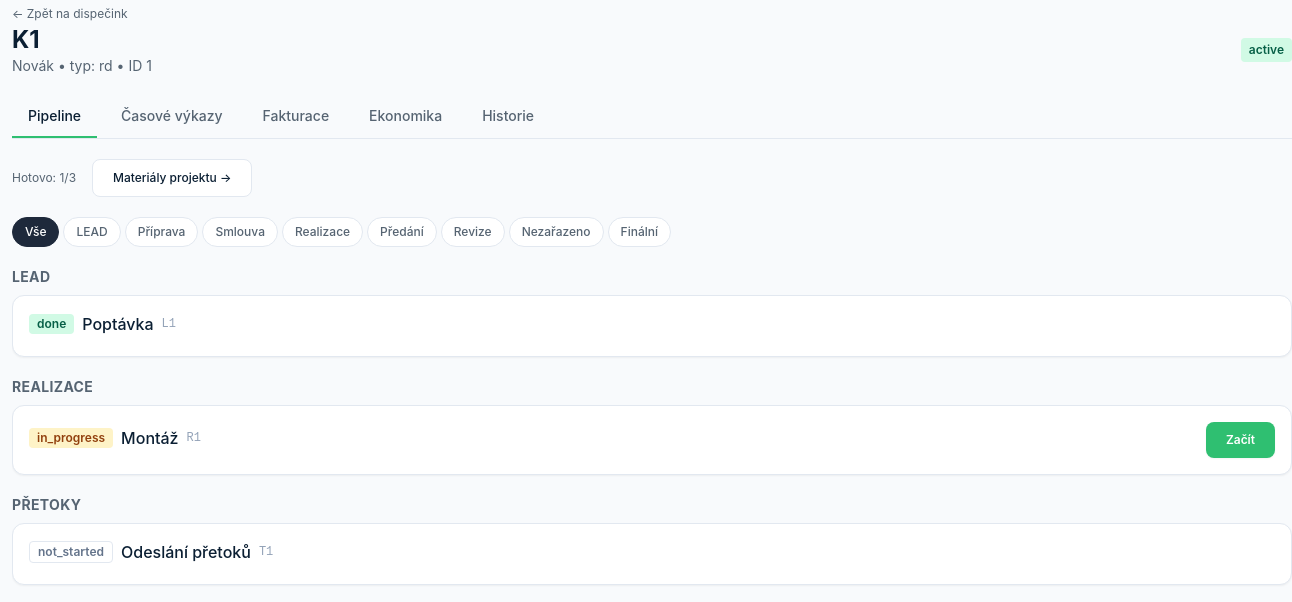
Test case: PipelineDetail — sub-taby fází › prázdný tab fáze zobrazí oznamovací lištu
The image size is (1292, 602).
expect the text "Montáž" is shown: met, box [121,426,179,450]
Click the button "Smlouva" at (240, 232), box [202,217,278,247]
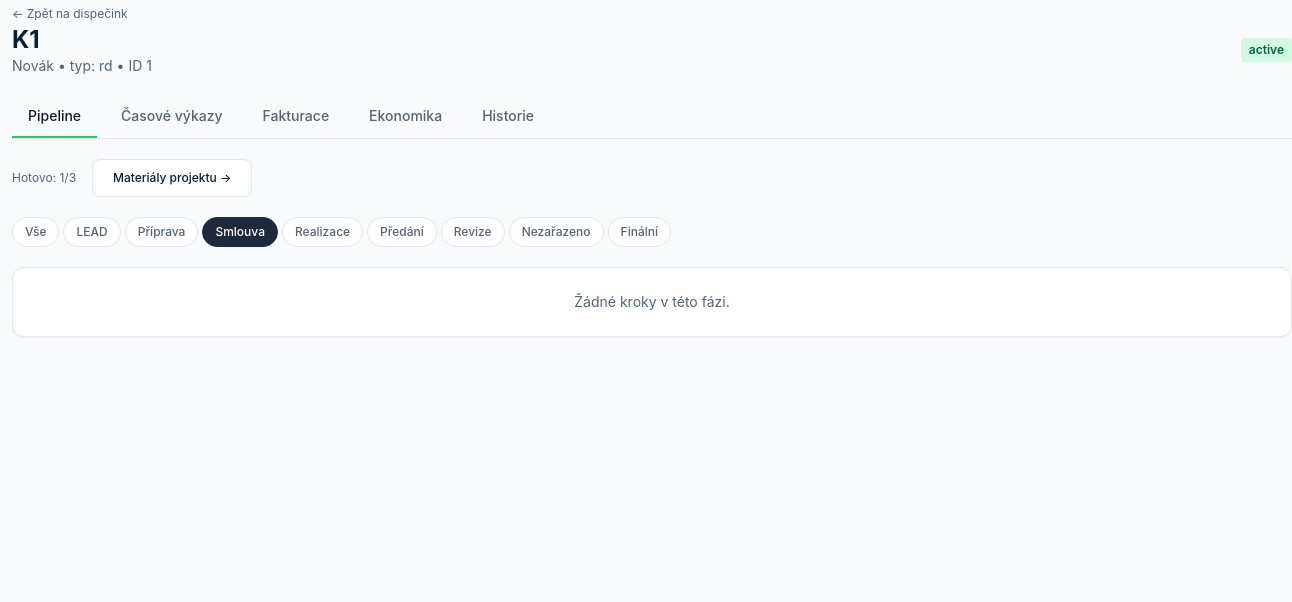
expect the text "Žádné kroky v této fázi." is shown: met, box [12,267,1291,337]
